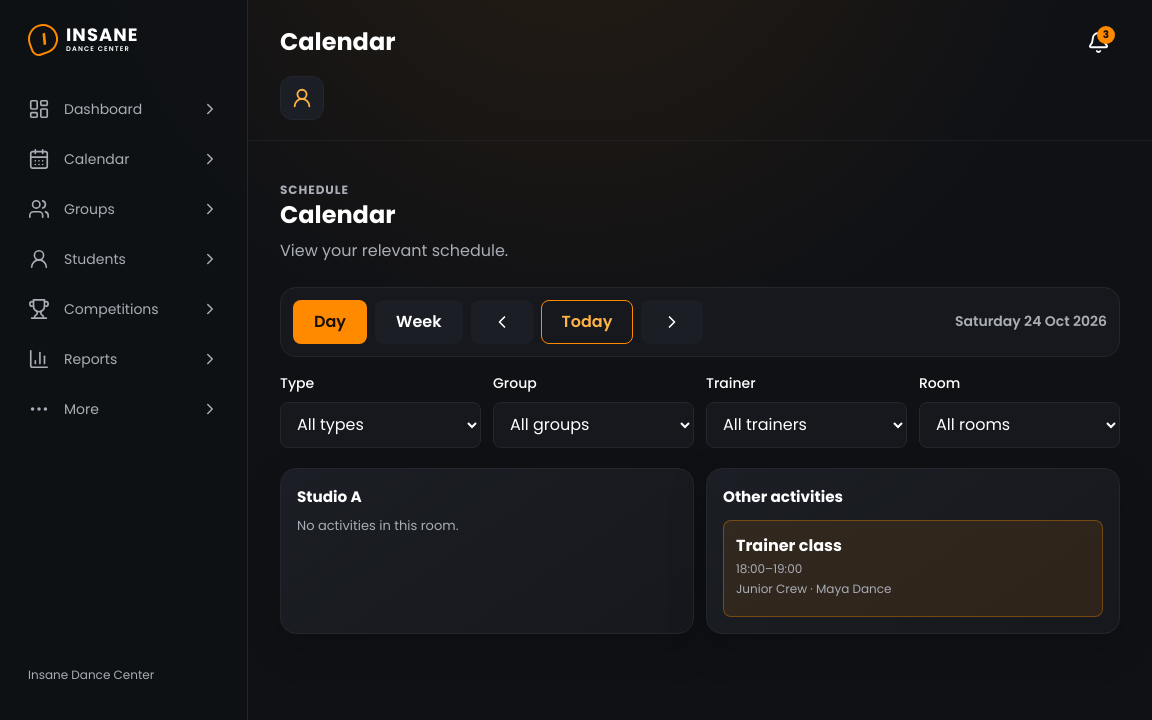
Test case: CalendarPage › keeps trainer calendar access read-only
Expected: the text "Trainer class" is shown, [736,534,842,557]
Click the button "Trainer class 18:00–19:00 Junior Crew · Maya Dance". click: (789, 545)
box: [723,520,1103,617]
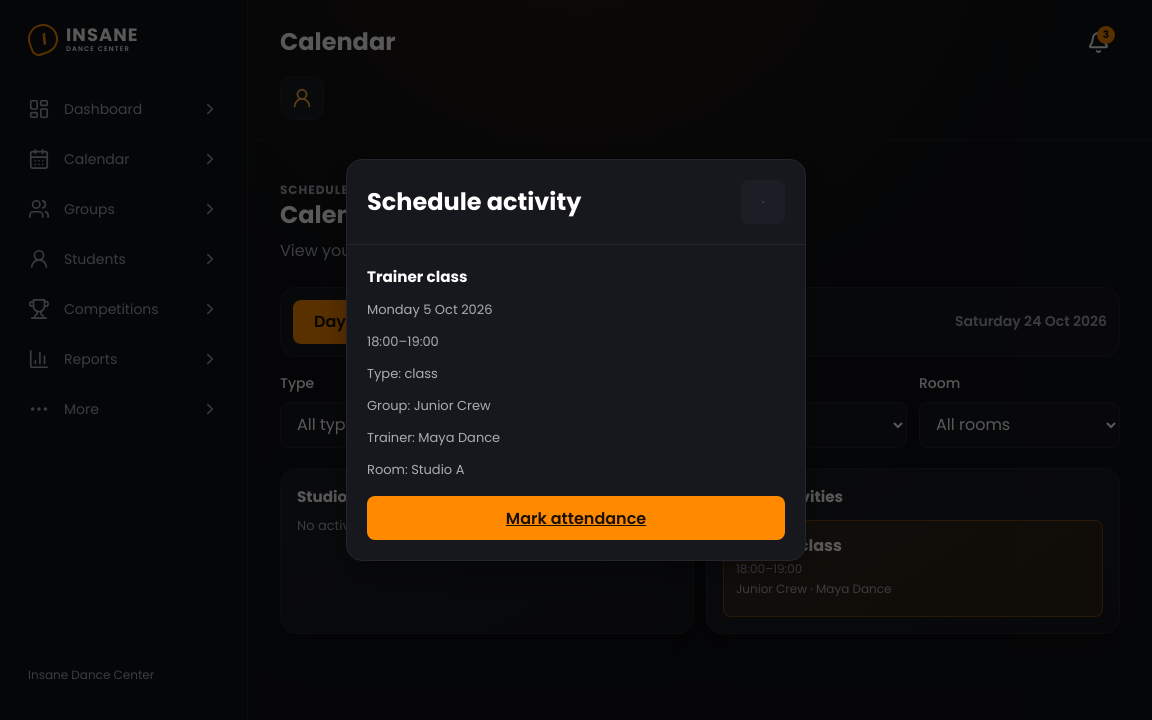
Now the heading "Schedule activity" is shown, box [367,186,581,218]
